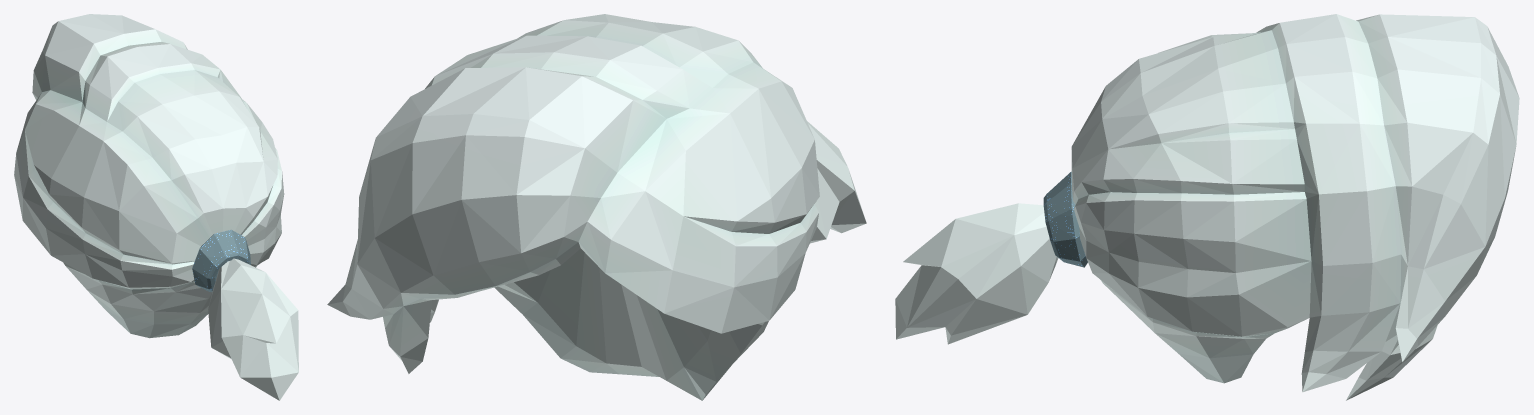
File: CharSkyKid_Hair_PonytailShort.glb
The picture shows the model from 3 angles, left to right: view 1: azimuth 30°, elevation 25°; view 2: azimuth 150°, elevation 25°; view 3: azimuth 270°, elevation 25°; orthographic projection. The views are drawn at different scales.
Parts seen in each view (by area): view 1: CharSkyKid_Hair_PonytailShort; view 2: CharSkyKid_Hair_PonytailShort; view 3: CharSkyKid_Hair_PonytailShort.
Boxes of the visible parts, x1,y1,x2,y2 form: CharSkyKid_Hair_PonytailShort: (14,14,298,400); CharSkyKid_Hair_PonytailShort: (327,14,866,400); CharSkyKid_Hair_PonytailShort: (895,14,1519,400).
Bounding box in the file's own units: 2.87 × 2.8 × 4.68.
1 material, 1 textured.
